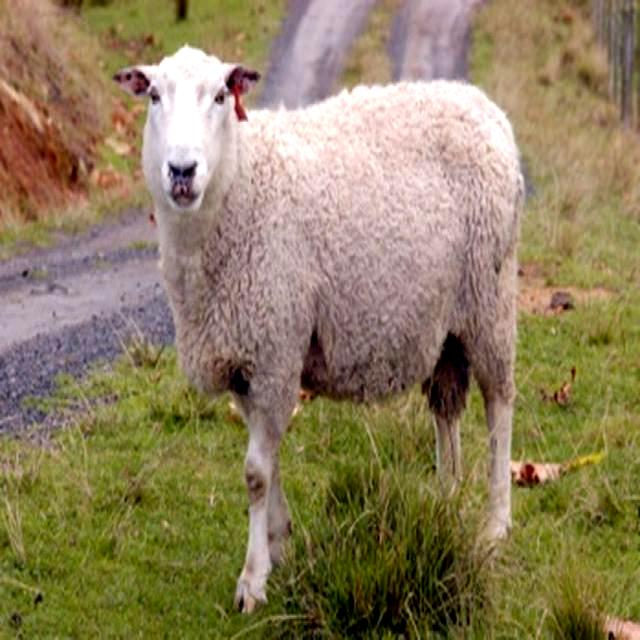sheep: (107, 41, 521, 611)
